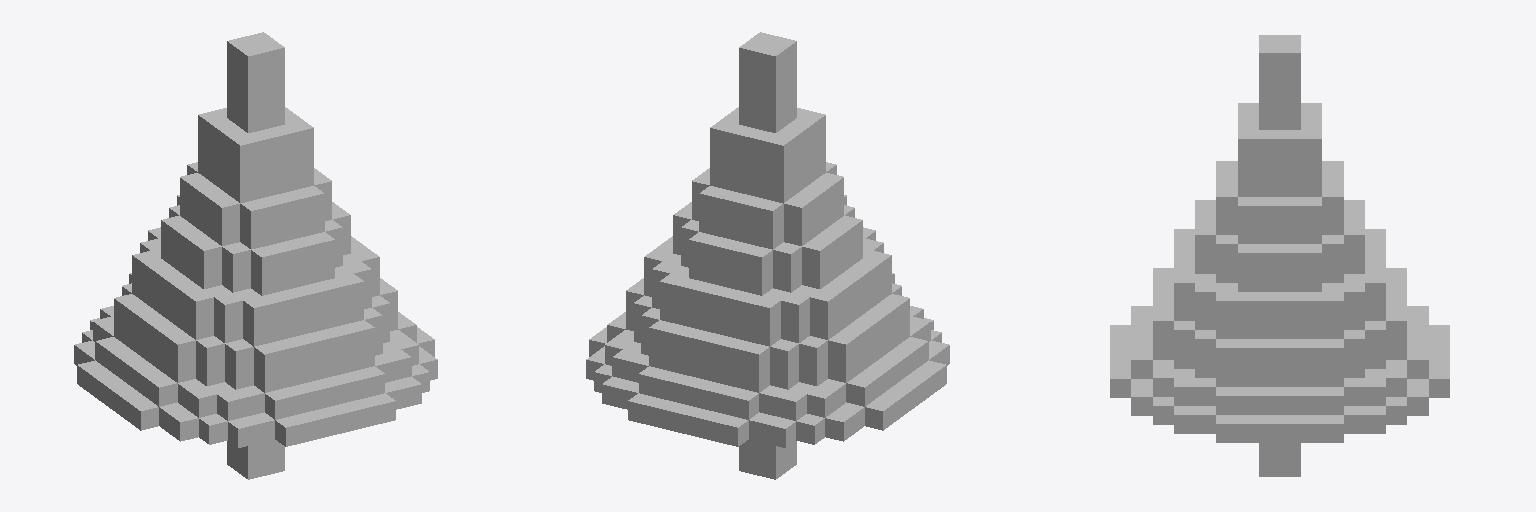
File: Tree.obj
3 views of the same model, side by side, from view 1: azimuth 30°, elevation 25°; view 2: azimuth 150°, elevation 25°; view 3: azimuth 270°, elevation 25° (orthographic).
Visible parts, largest first — view 1: Tree; view 2: Tree; view 3: Tree.
Boxes of the visible parts, x1=… form: Tree: x1=74, y1=32, x2=437, y2=479; Tree: x1=586, y1=32, x2=949, y2=479; Tree: x1=1110, y1=35, x2=1449, y2=476.
Size of the model in its own units: 16 by 22 by 16.